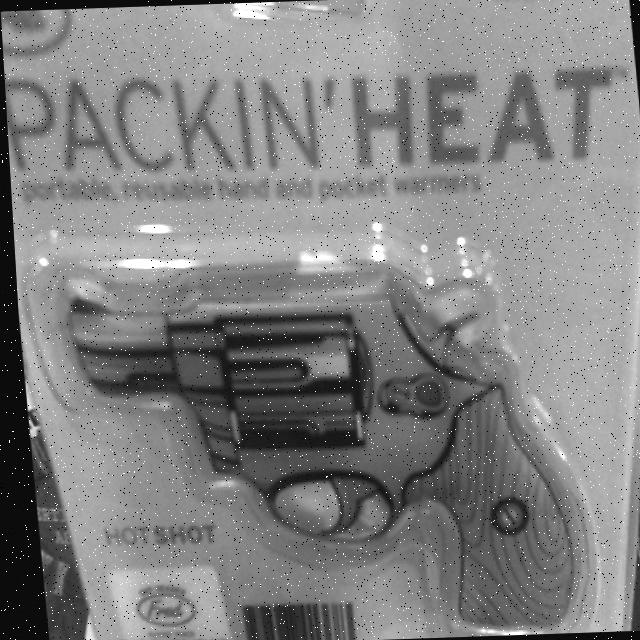pistol: (60, 281, 573, 640)
